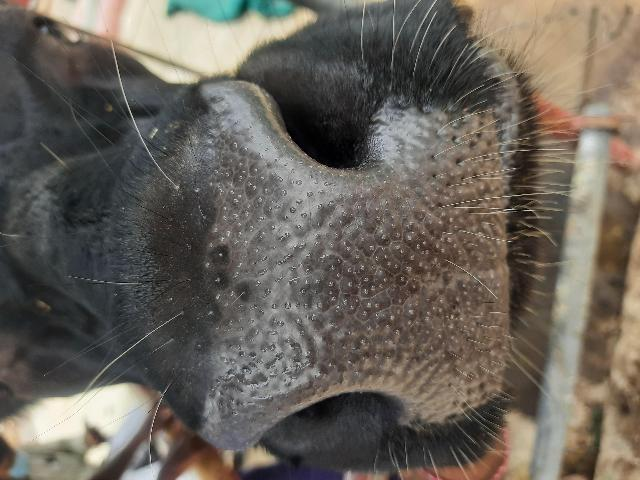Muzzle: (224, 154, 490, 390)
